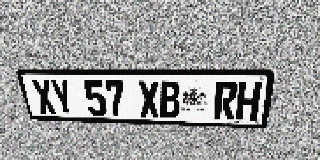5: (83, 80, 108, 116)
7: (103, 80, 127, 117)
B: (159, 81, 180, 118)
H: (235, 82, 262, 121)
R: (213, 81, 239, 120)
X: (30, 80, 58, 114), (138, 81, 160, 118)
Y: (49, 80, 76, 115)
